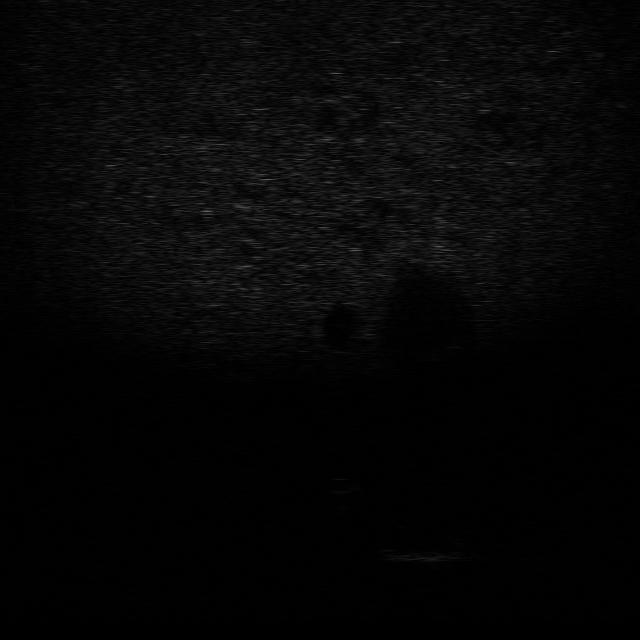ball: (318, 469, 362, 498)
metal bucket: (382, 544, 458, 569)
tyre: (389, 516, 466, 550)
